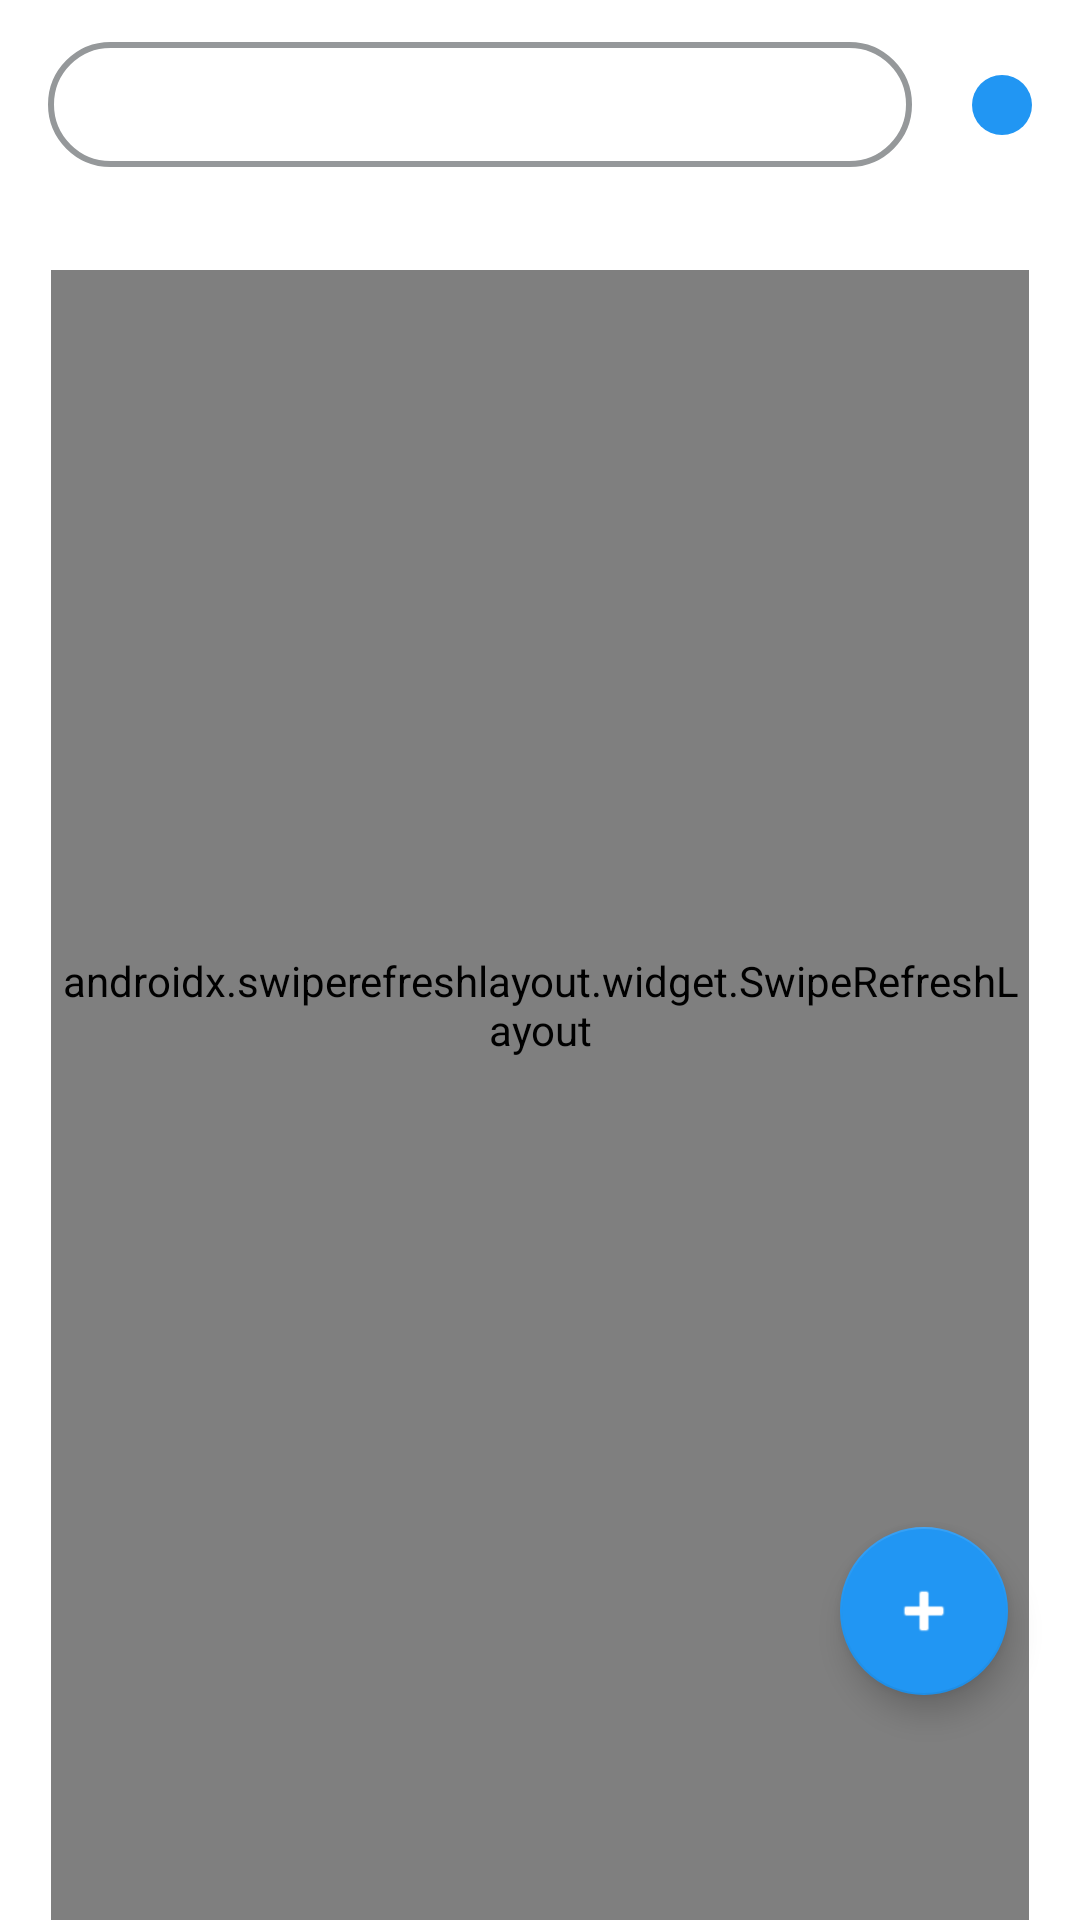

Screen size 1080px×1920px. Icon name, then its box in pixels as region(x1, y1, x2, y2):
add: region(840, 1527, 1008, 1695)
